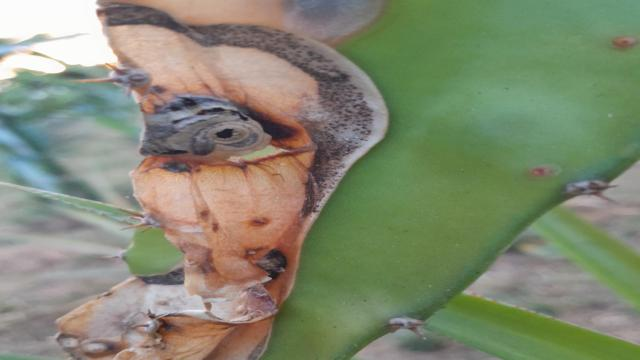stemcanker: (46, 1, 399, 358)
